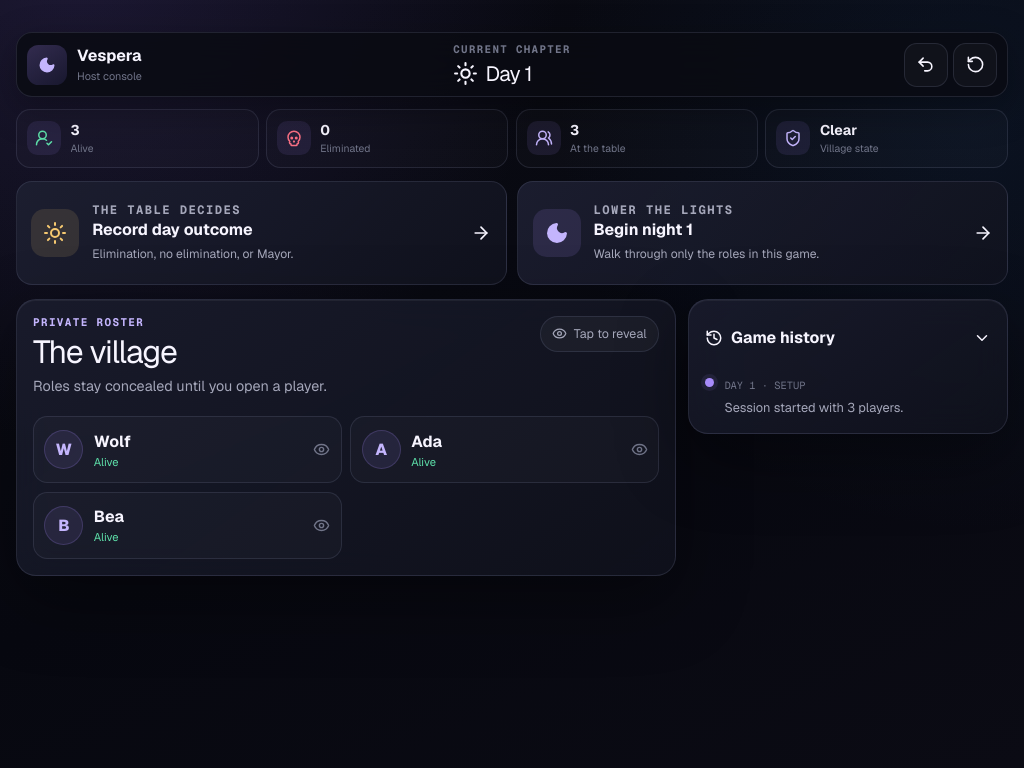
Scenario: host workflows › conceals roles in the cockpit and reveals one only in the private dialog
Expected: the text "Werewolf" is not shown
Click the button with aria-label "Wolf, alive": (64, 450) top-left (33, 416), bottom-right (342, 484)
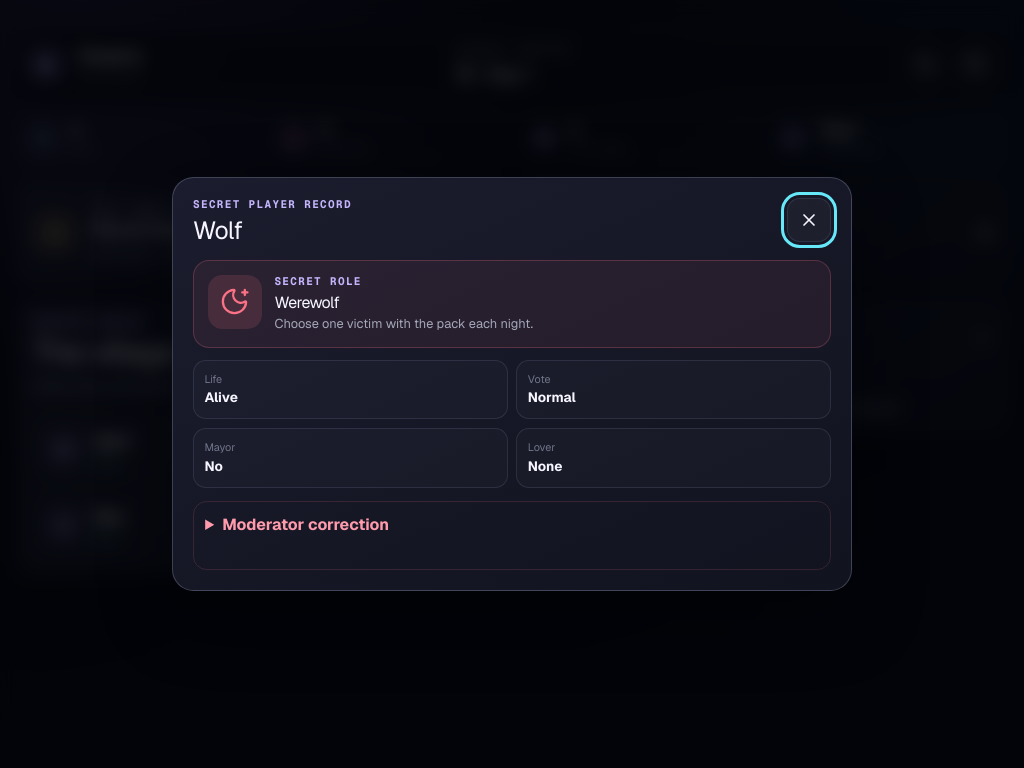
Expected: the dialog shows "Secret role", top-left (274, 274), bottom-right (362, 288)
Expected: the dialog shows "Werewolf", top-left (274, 292), bottom-right (339, 312)
